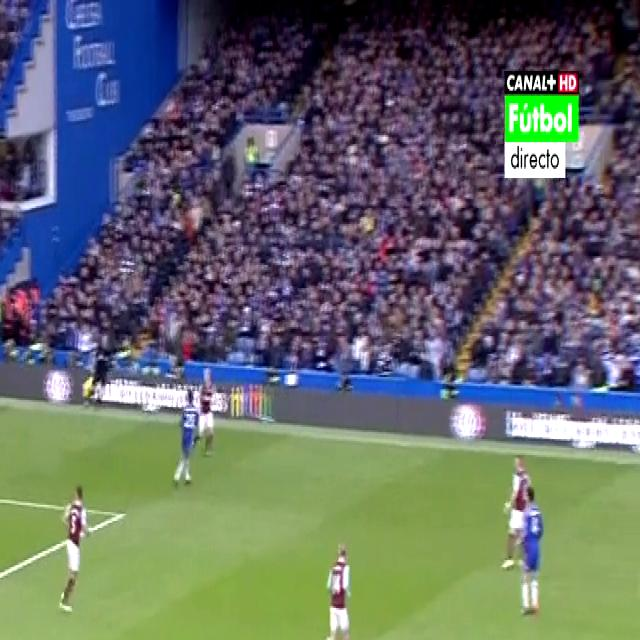referee: (80, 332, 114, 409)
soccer-player: (54, 476, 92, 618), (515, 481, 550, 619), (500, 444, 537, 567), (320, 522, 358, 640), (172, 393, 198, 494), (194, 361, 218, 455), (295, 634, 343, 640)
